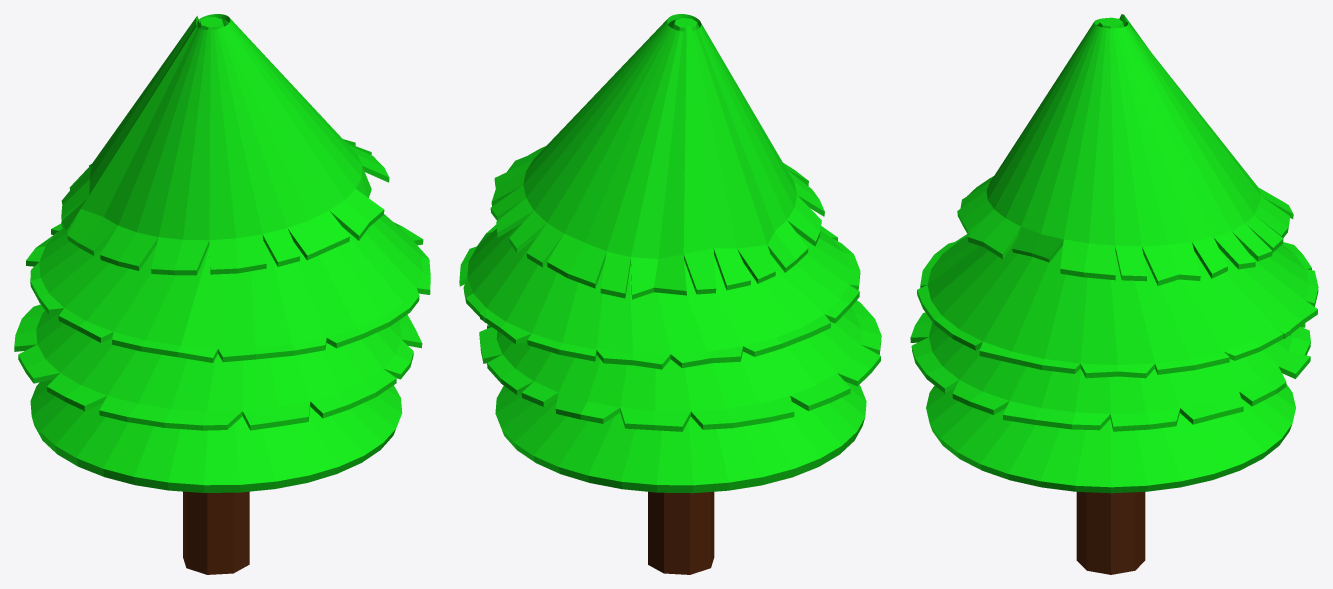
The model's file is pinetree4.fbx.
The picture shows the model from 3 angles, left to right: view 1: azimuth 30°, elevation 25°; view 2: azimuth 150°, elevation 25°; view 3: azimuth 270°, elevation 25°; orthographic projection.
Parts seen in each view (by area): view 1: Cylinder; view 2: Cylinder; view 3: Cylinder.
Boxes of the visible parts, x1=… form: Cylinder: x1=14, y1=14, x2=430, y2=574; Cylinder: x1=459, y1=14, x2=881, y2=574; Cylinder: x1=910, y1=14, x2=1318, y2=574.
Size of the model in its own units: 440 by 617 by 423.
